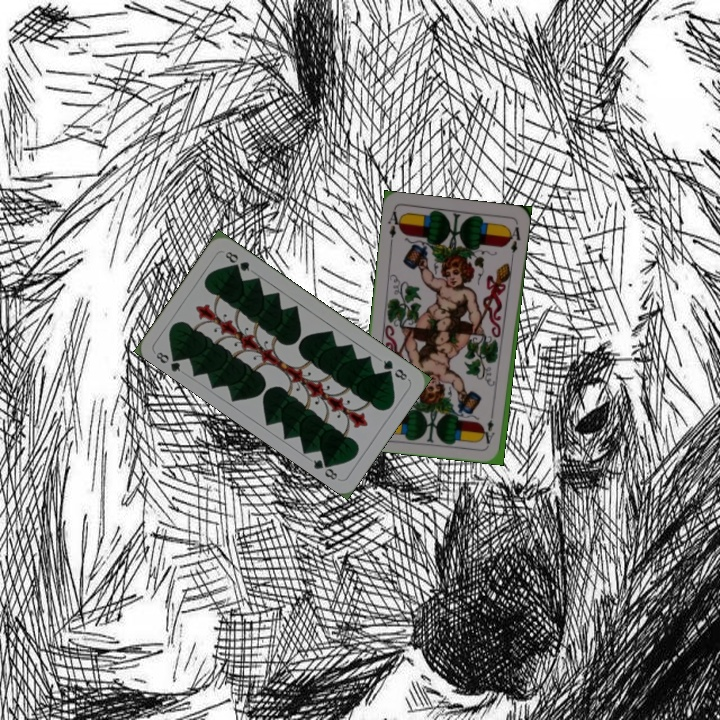EA: (384, 207, 405, 247), (482, 407, 497, 447)
G8: (379, 356, 410, 383), (152, 348, 184, 374)
